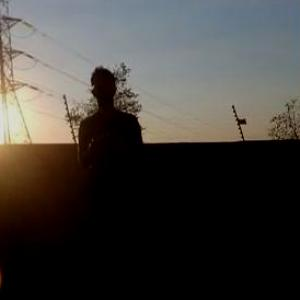follow: (74, 62, 176, 299)
